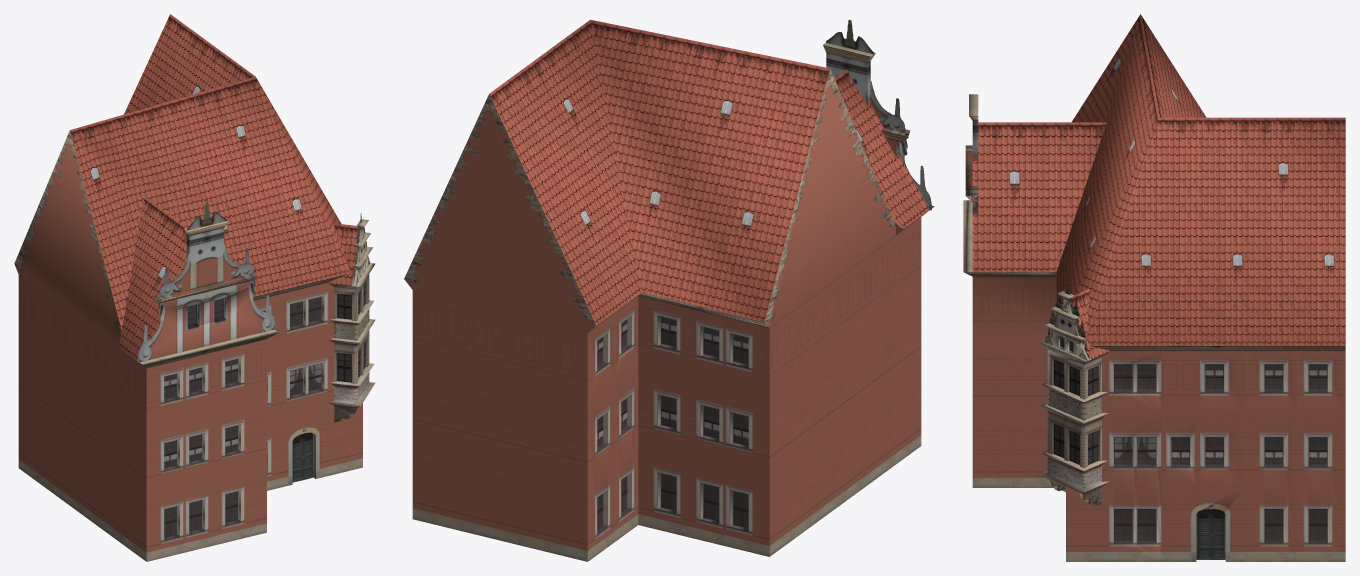
3 views of the same model, side by side, from view 1: azimuth 30°, elevation 25°; view 2: azimuth 150°, elevation 25°; view 3: azimuth 270°, elevation 25° (orthographic). The views are drawn at different scales.
Visible parts, largest first — view 1: SketchUp.001_Material_0.001; view 2: SketchUp.001_Material_0.001; view 3: SketchUp.001_Material_0.001.
Part boxes in pixels (<box>): SketchUp.001_Material_0.001: <box>14,14,375,561</box>; SketchUp.001_Material_0.001: <box>404,19,934,561</box>; SketchUp.001_Material_0.001: <box>963,14,1345,561</box>.
Bounding box in the file's own units: 1563 × 1941 × 1640.
1 material, 1 textured.
